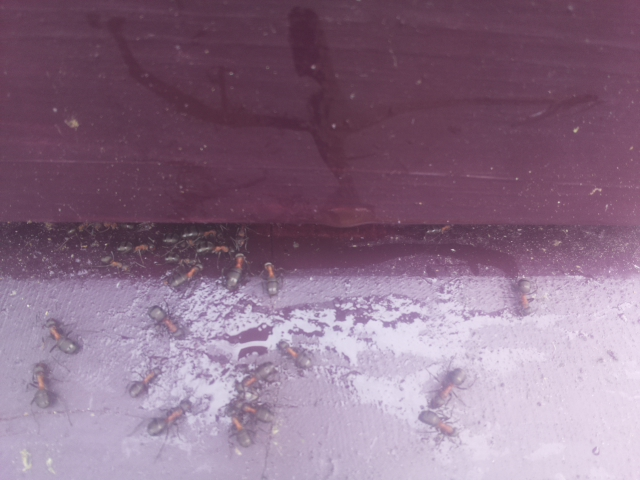ant: (140, 386, 200, 446), (34, 312, 85, 364), (139, 299, 186, 343), (121, 362, 169, 403), (431, 360, 470, 408), (411, 404, 460, 440), (269, 336, 316, 373), (28, 355, 52, 414), (509, 273, 538, 318), (223, 250, 251, 296), (162, 261, 206, 290), (238, 360, 279, 391), (225, 412, 257, 451), (264, 254, 286, 300), (100, 254, 132, 274)
